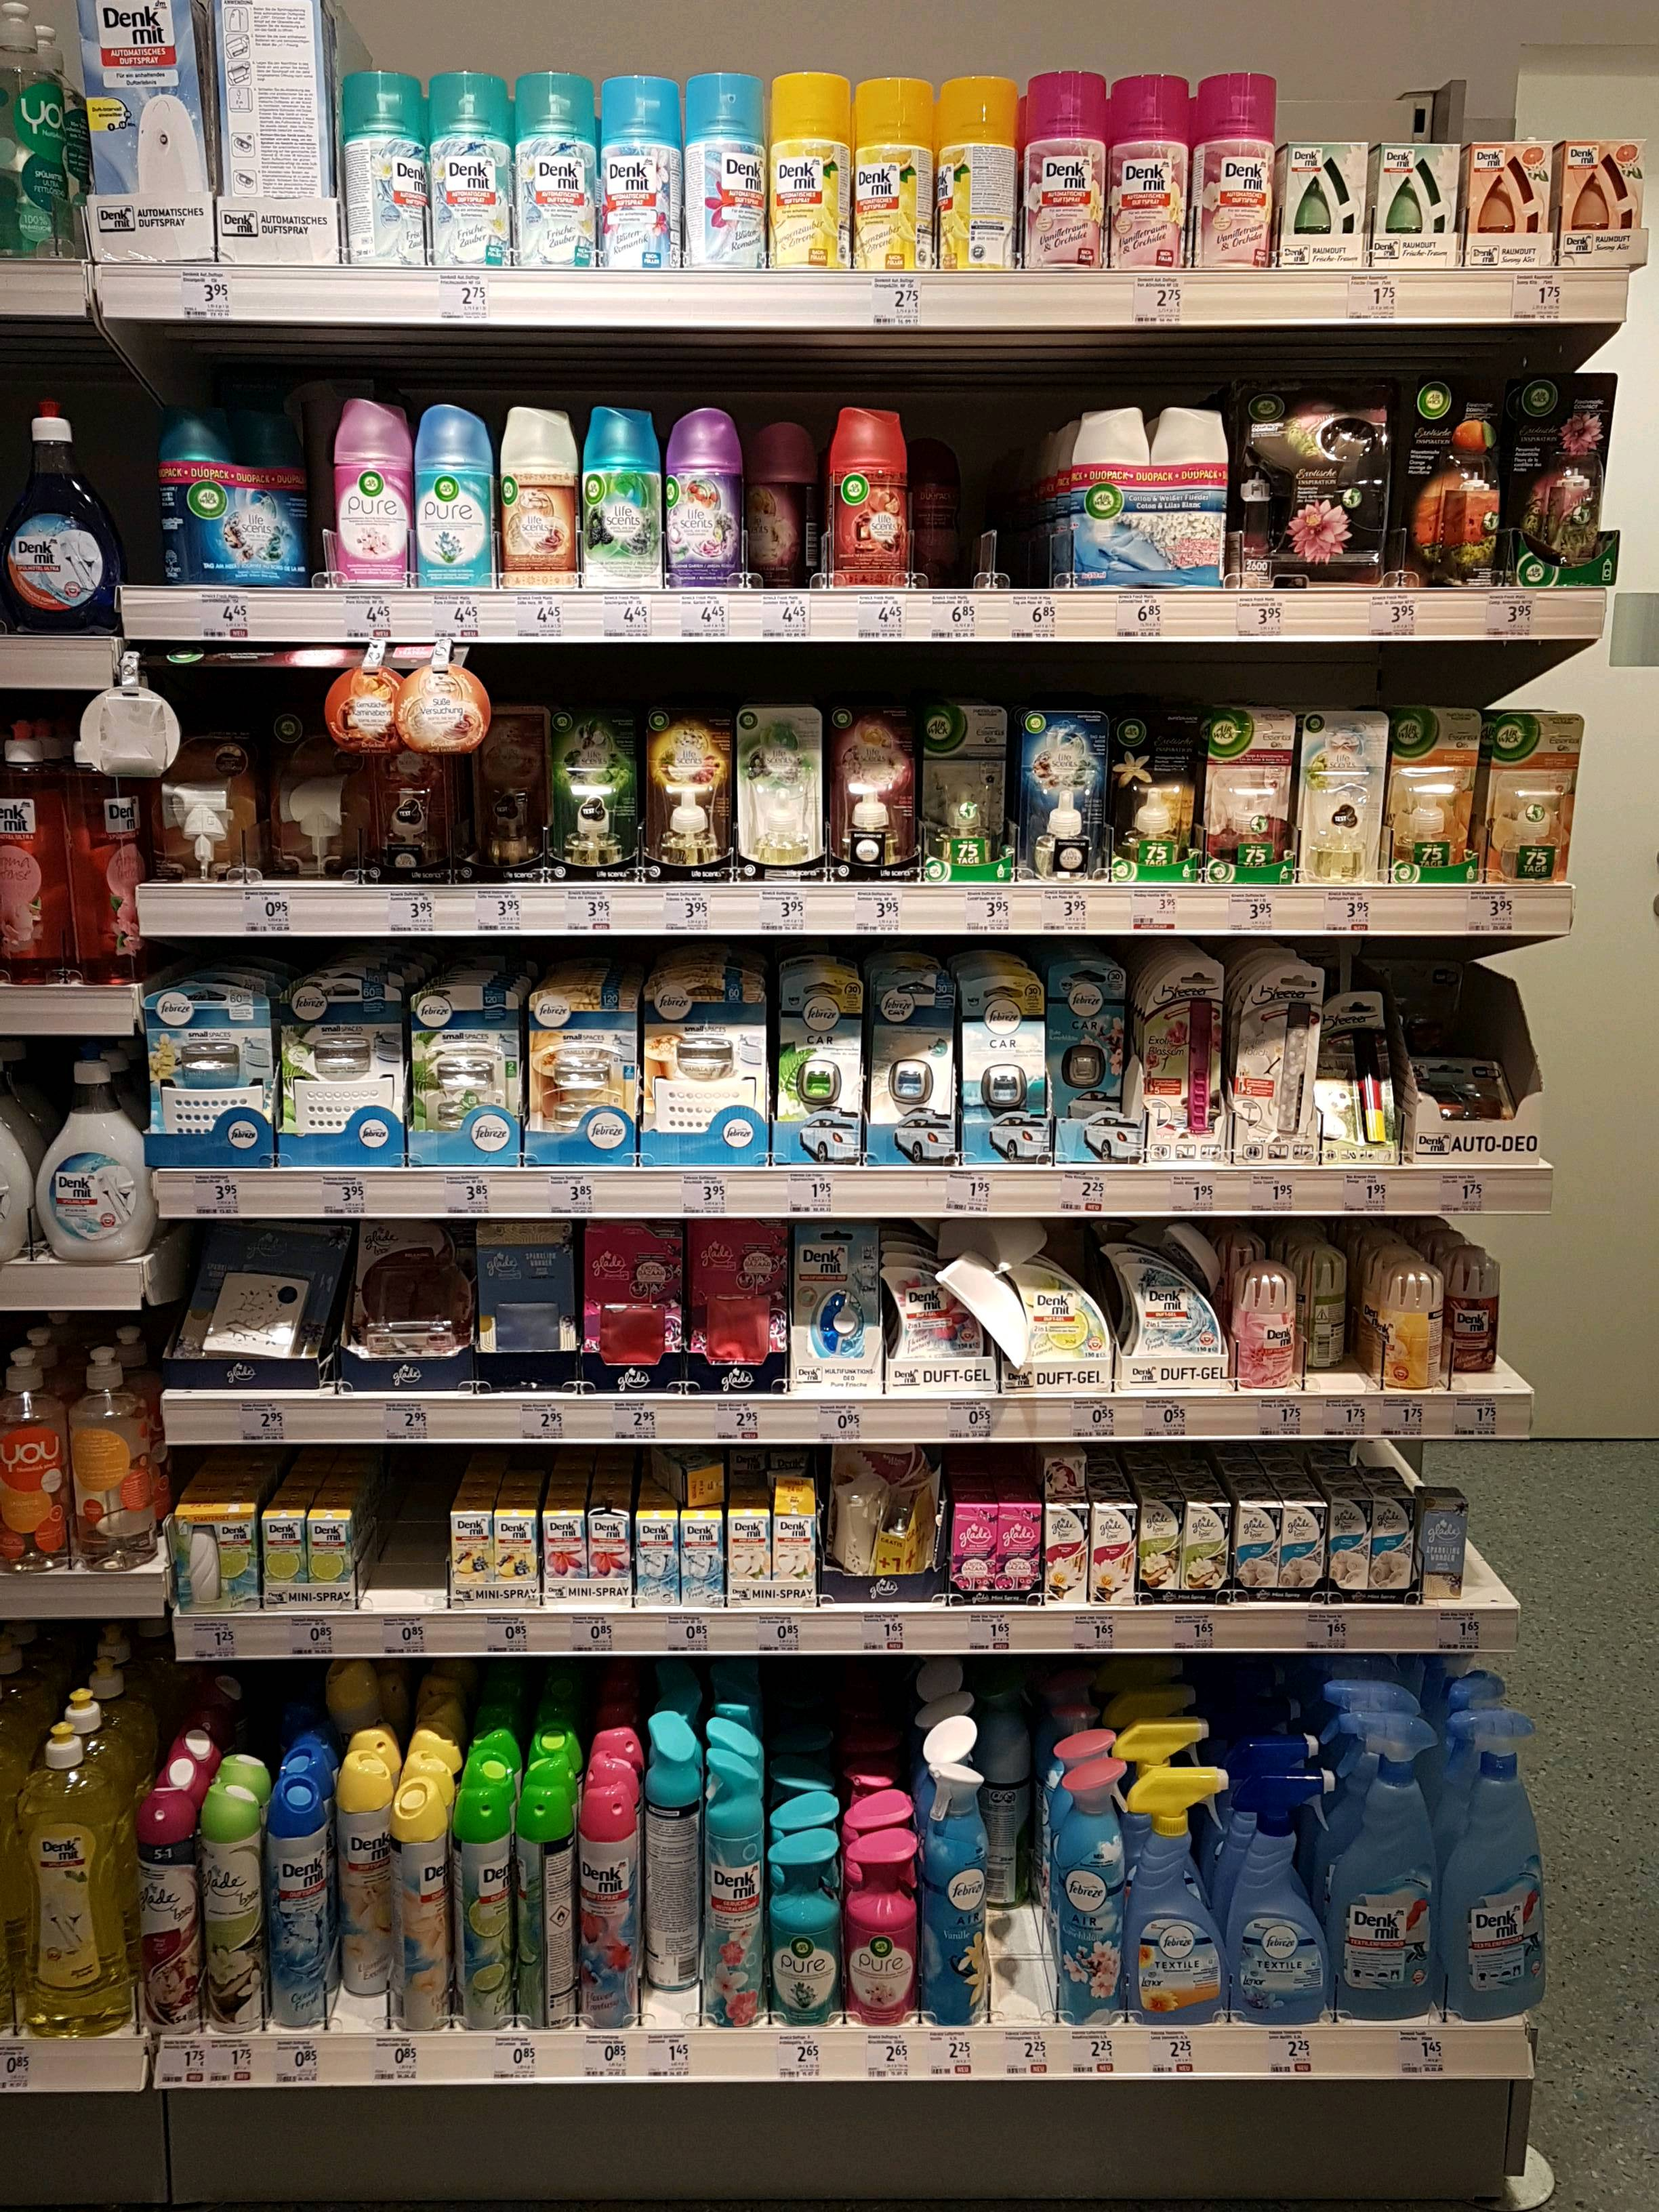product: (1337, 1709, 1441, 2020), (1448, 1698, 1549, 2019), (21, 1719, 122, 2036), (78, 3, 200, 265), (211, 3, 333, 263), (1249, 378, 1382, 580), (9, 388, 115, 632), (1234, 1766, 1326, 2029), (1394, 374, 1504, 589), (178, 1231, 328, 1388), (1134, 1756, 1220, 2020), (146, 981, 267, 1165), (645, 988, 767, 1167), (286, 988, 403, 1163), (1053, 1756, 1129, 2022), (45, 1055, 143, 1261), (408, 988, 521, 1163), (1516, 374, 1612, 578), (528, 984, 634, 1167), (68, 1341, 152, 1573), (355, 1219, 465, 1392), (1114, 1235, 1229, 1393), (129, 1787, 200, 2041), (1060, 395, 1152, 590), (3, 3, 73, 260), (146, 714, 254, 876), (685, 1226, 788, 1395), (68, 738, 138, 988), (924, 695, 1014, 885), (579, 1226, 680, 1395), (450, 1784, 518, 2034), (924, 1763, 986, 2029), (1145, 956, 1223, 1167), (1237, 963, 1317, 1169), (1053, 963, 1133, 1167), (474, 1224, 570, 1393), (263, 1777, 328, 2027), (702, 1749, 760, 2029), (1394, 705, 1481, 888), (875, 974, 955, 1170), (774, 71, 850, 275), (964, 977, 1049, 1160), (688, 75, 767, 273), (767, 1834, 845, 2033), (880, 1245, 986, 1392), (735, 702, 824, 876), (1026, 702, 1114, 880), (342, 71, 420, 268), (599, 75, 678, 272), (274, 718, 368, 881), (938, 71, 1014, 270), (1202, 702, 1288, 880), (856, 75, 931, 277), (552, 702, 638, 878), (828, 404, 911, 583), (1032, 64, 1105, 268), (429, 68, 502, 272), (335, 385, 410, 583), (415, 404, 495, 589), (518, 68, 593, 263), (781, 977, 859, 1163), (1009, 1245, 1108, 1392), (1199, 71, 1270, 273), (389, 1780, 446, 2031), (835, 698, 917, 874), (1155, 402, 1232, 589), (1495, 714, 1577, 888), (579, 1787, 636, 2033), (3, 718, 56, 988), (647, 1709, 695, 1998), (647, 702, 725, 881), (793, 1231, 878, 1393), (0, 1345, 59, 1578), (1117, 71, 1187, 265), (589, 399, 660, 587), (1304, 714, 1384, 880), (1117, 702, 1192, 878), (1401, 1042, 1523, 1150), (504, 404, 575, 587), (671, 406, 741, 592), (831, 1447, 932, 1575), (521, 1780, 572, 2033), (164, 427, 240, 589), (1326, 991, 1394, 1170), (335, 1763, 385, 2003), (849, 1834, 911, 2027), (749, 418, 817, 596), (207, 1787, 254, 2036), (375, 752, 460, 881), (1281, 139, 1370, 263), (1563, 136, 1645, 265), (992, 1684, 1035, 1912), (1377, 139, 1453, 268), (1373, 1270, 1452, 1395), (493, 702, 547, 878), (251, 421, 307, 587), (1471, 143, 1544, 265), (171, 1507, 251, 1609), (1237, 1263, 1298, 1395), (917, 435, 967, 583), (1305, 1256, 1354, 1381), (1459, 1249, 1506, 1376), (406, 671, 479, 740), (948, 1507, 999, 1606), (770, 1512, 817, 1613), (1234, 1501, 1279, 1606), (1185, 1498, 1229, 1606), (1420, 1494, 1464, 1599), (542, 1512, 587, 1611), (1281, 1501, 1324, 1604), (1326, 1494, 1366, 1604), (1002, 1507, 1044, 1606), (634, 1512, 678, 1604), (1370, 1494, 1406, 1604), (495, 1508, 535, 1608), (307, 1515, 349, 1609), (450, 1512, 491, 1606), (730, 1510, 770, 1608), (263, 1512, 303, 1609), (1094, 1505, 1133, 1606), (1141, 1498, 1176, 1606), (681, 1510, 720, 1608), (1049, 1507, 1086, 1606), (593, 1512, 629, 1608), (1035, 1453, 1087, 1498), (685, 1467, 721, 1498)
